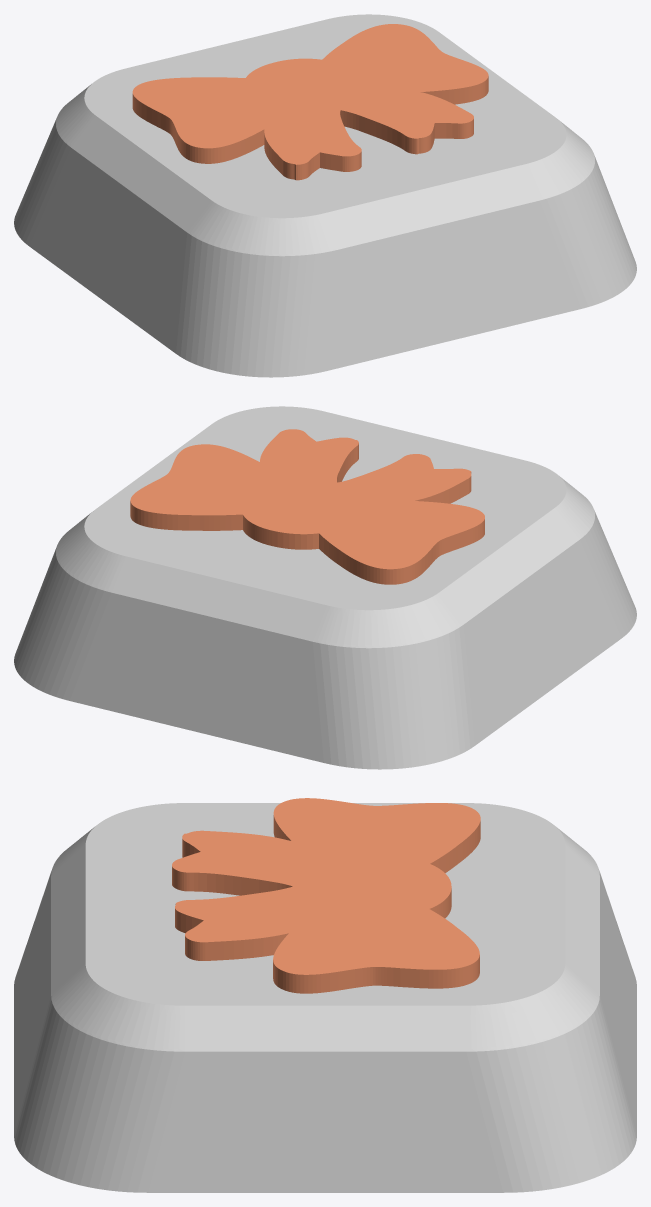
Rendered from cap-ribbon.glb.
3 renders of one model, top to bottom at view 1: azimuth 30°, elevation 25°; view 2: azimuth 150°, elevation 25°; view 3: azimuth 270°, elevation 25°, orthographic. The views are drawn at different scales.
Visible parts, largest first — view 1: cap_0, glyph_1; view 2: cap_0, glyph_1; view 3: cap_0, glyph_1.
Part boxes in pixels (<box>): cap_0: <box>14,14,636,377</box>; glyph_1: <box>132,24,488,180</box>; cap_0: <box>14,406,636,769</box>; glyph_1: <box>130,429,484,584</box>; cap_0: <box>14,803,636,1192</box>; glyph_1: <box>172,798,480,993</box>.
Size of the model in its own units: 18 by 5.6 by 18.
